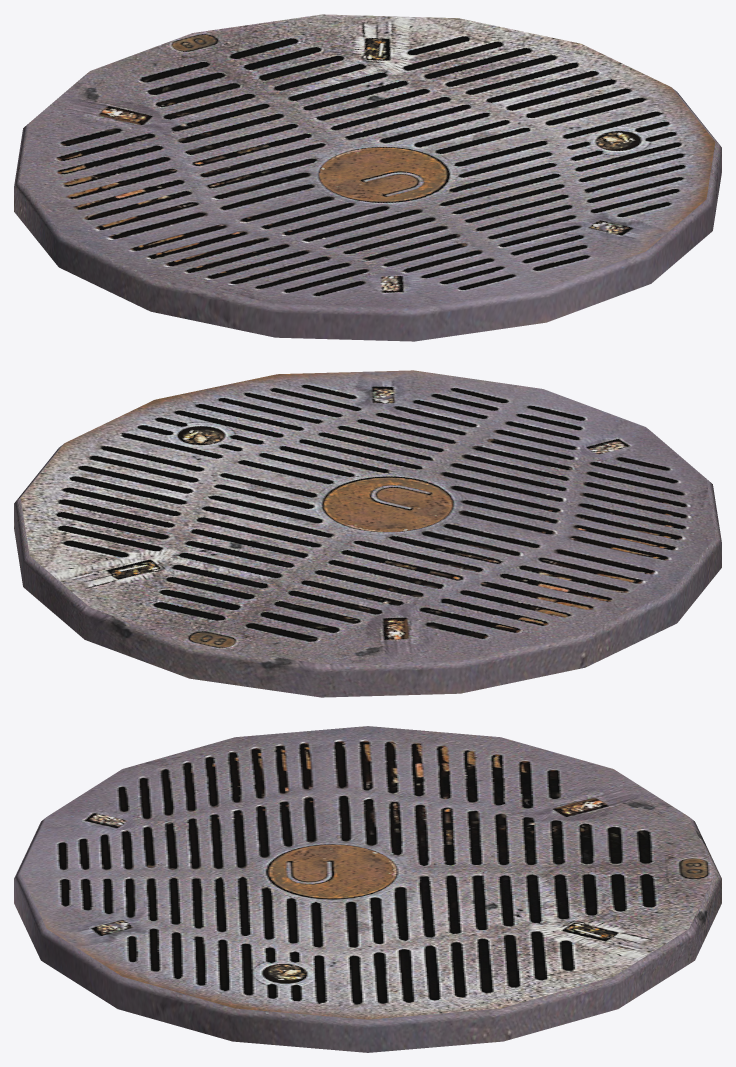
File: manhole_cover_03.fbx
3 views of the same model, one above another, from view 1: azimuth 30°, elevation 25°; view 2: azimuth 150°, elevation 25°; view 3: azimuth 270°, elevation 25° (orthographic).
Visible parts, largest first — view 1: manhole_cover3; view 2: manhole_cover3; view 3: manhole_cover3.
Boxes of the visible parts, x1,y1,x2,y2 form: manhole_cover3: (14,14,721,341); manhole_cover3: (14,370,721,697); manhole_cover3: (14,726,721,1052).
Size of the model in its own units: 2 by 0.095 by 2.
